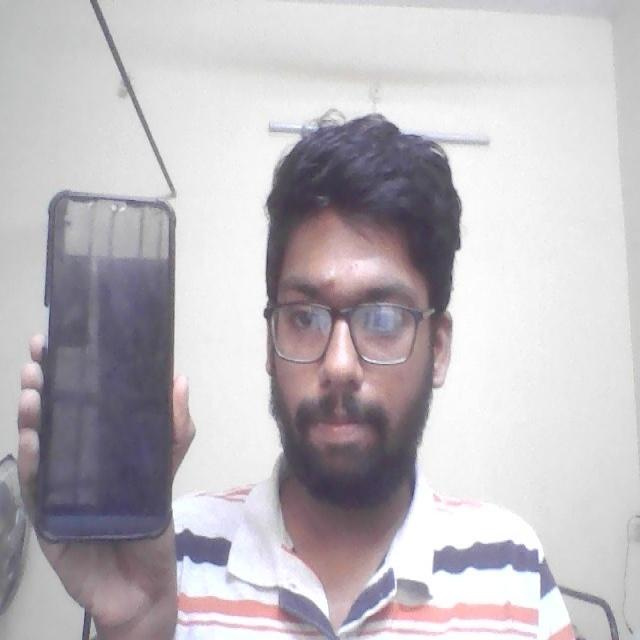Mobile: (34, 185, 180, 545)
